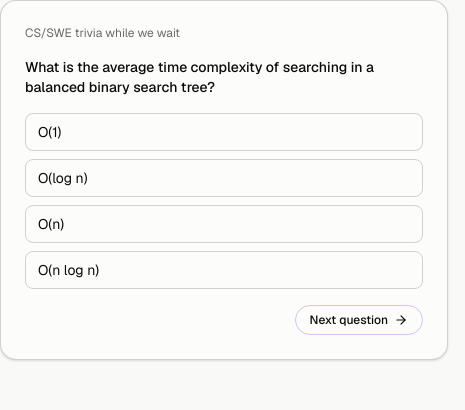
Scenario: TriviaQuiz › clicking 'Next question' moves to a different question and clears the previous selection
Click the button "O(1)": (50, 132) [25,113,423,151]
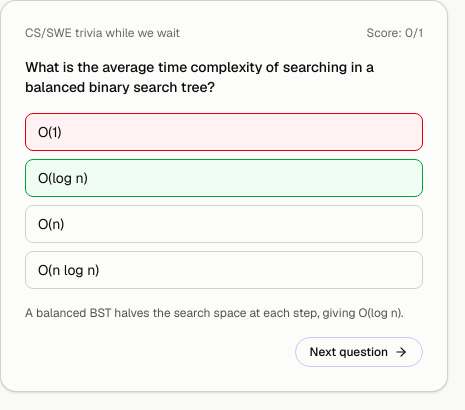
Expected: the text "Score: 0/1" is shown, [366,25,423,41]
Click the button "Next question": (359, 352) [295,337,423,367]
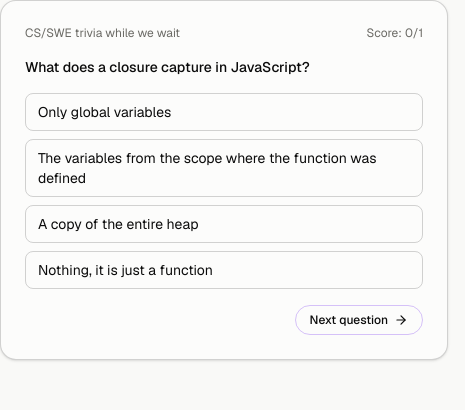
Expected: the text "Score: 0/1" is shown, [366,25,423,41]
Expected: the text "What is the average time complexity of searching in a balanced binary search tree?" is gone
